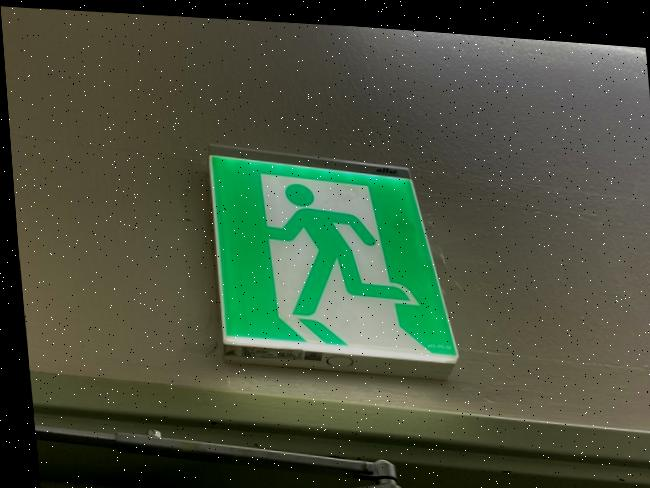emergency_exit: (207, 143, 460, 372)
